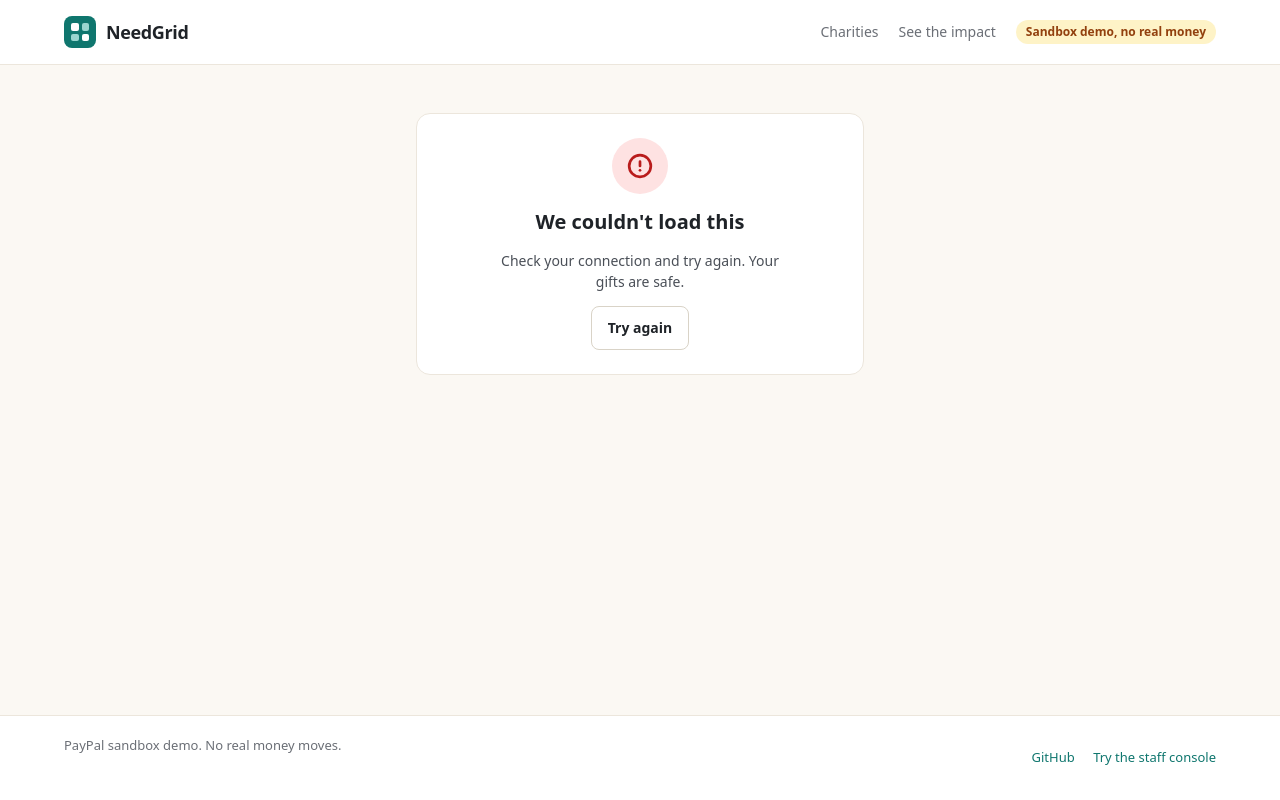
Test: Tile wall /o/:slug › shows the error state with Try again on a server error, then recovers
Expected: the heading "We couldn't load this" is shown, [536,208,744,236]
Click the button "Try again" at (640, 328), box [591,306,689,350]
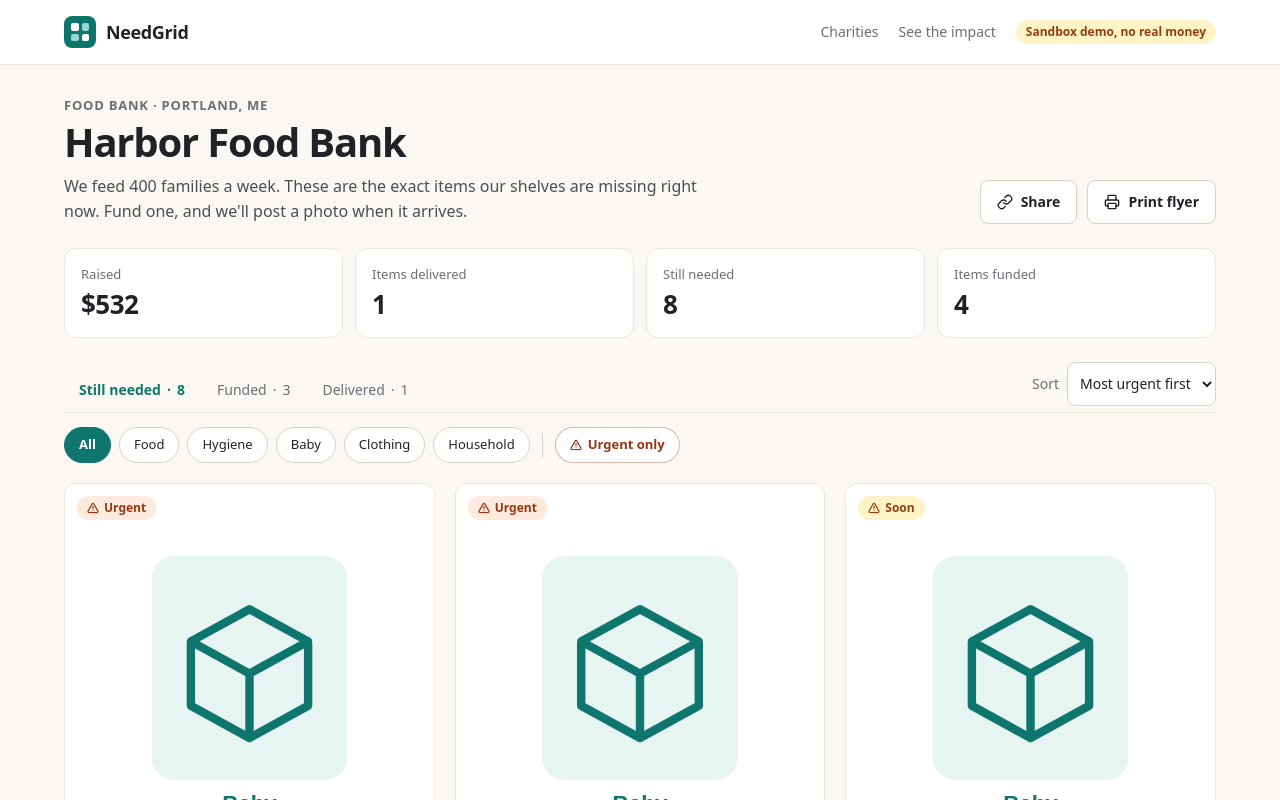
Result: the heading "Harbor Food Bank" is shown at [64,114,406,169]
